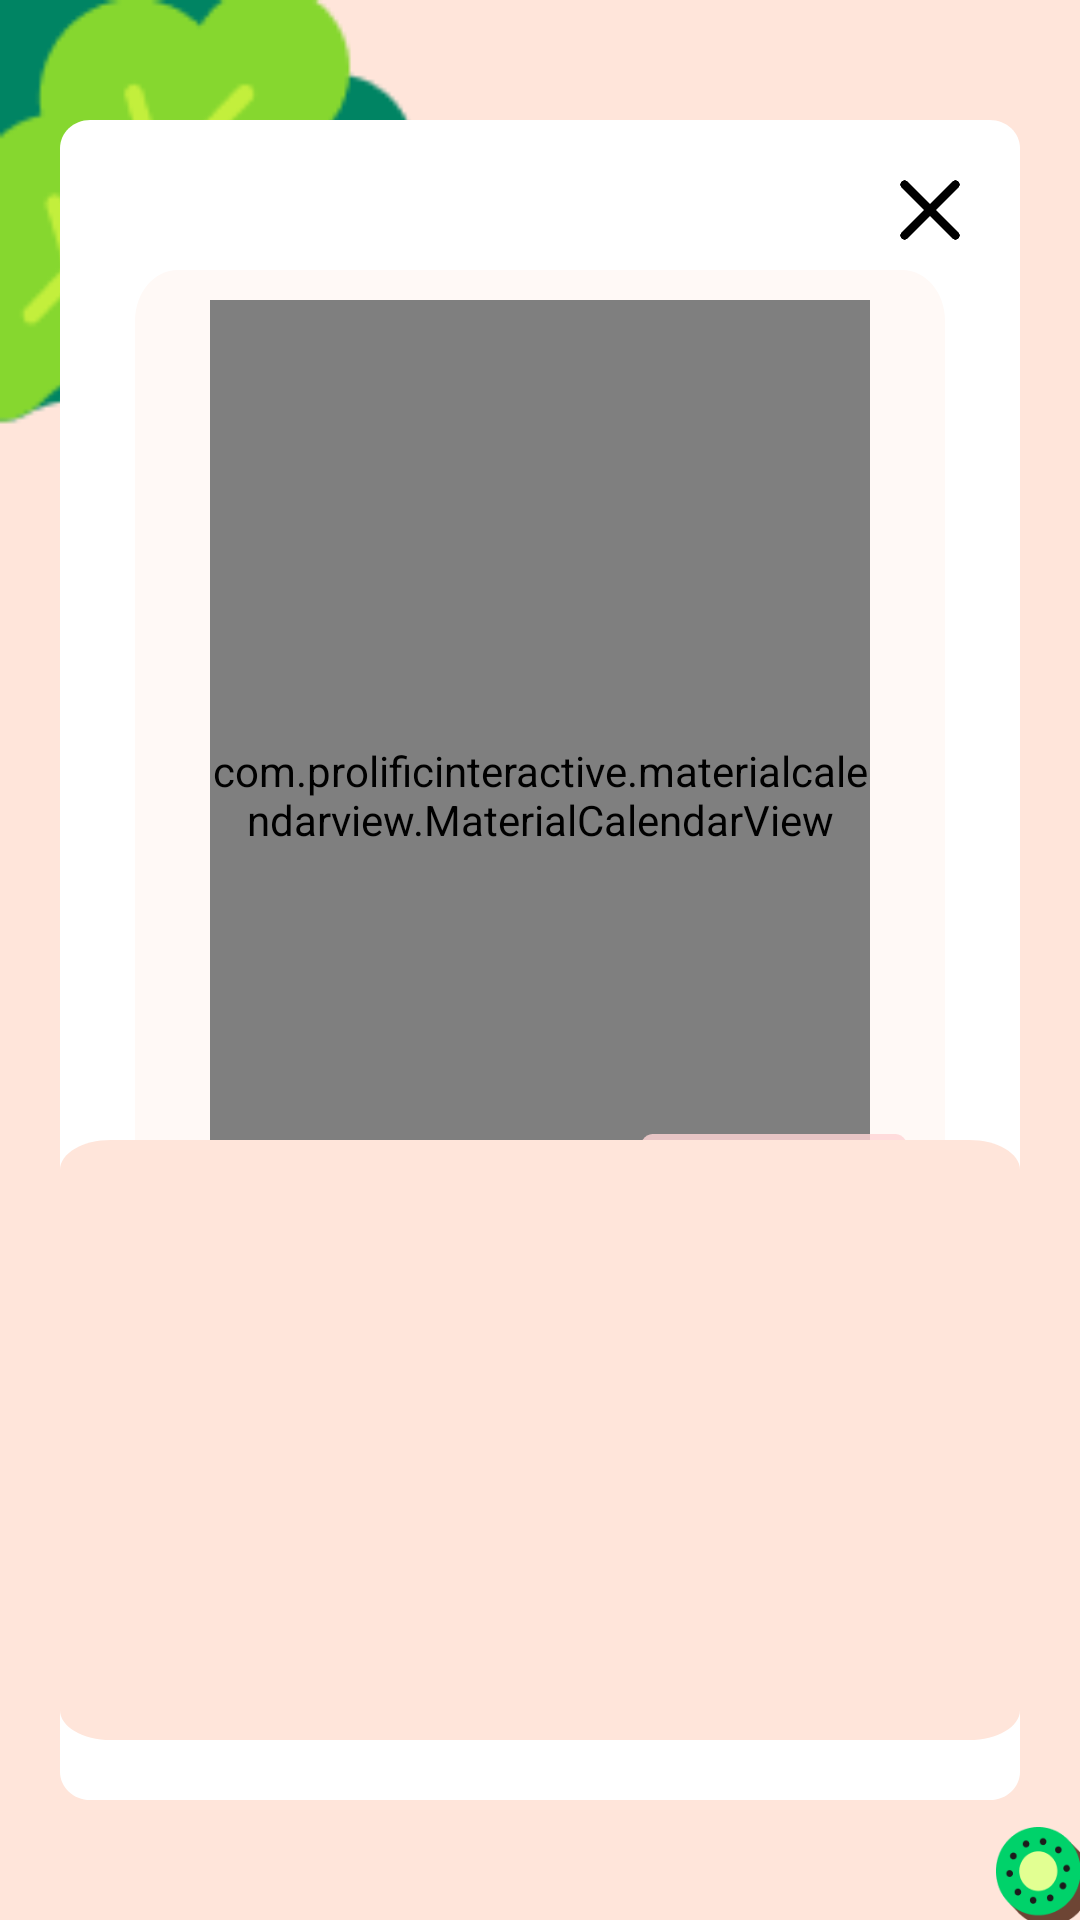

Screen size 1080px×1920px. Icon name, then its center in pixels as (x=x, y=y):
kiwi: (x=1038, y=1873)
